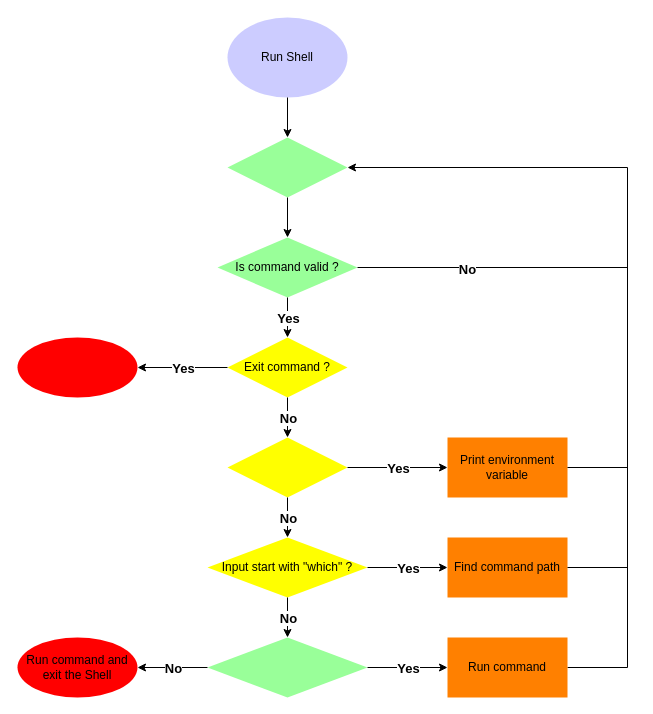
Some shapes in this 653 by 714 pixel diagram are drawn without their labels. The centre of each missing label's shape, as x and y in pixels:
Exit the Shell: (x=77, y=367)
Input = "env" ?: (x=287, y=467)
Is Shell interactive ?: (x=287, y=667)
Read user input: (x=287, y=167)
